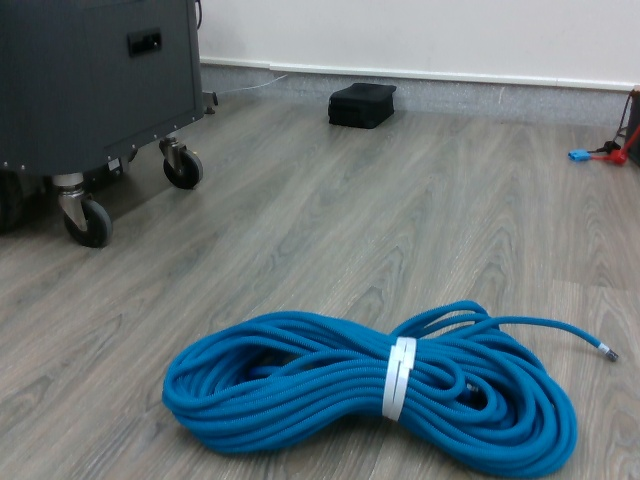rope: (161, 300, 583, 480)
